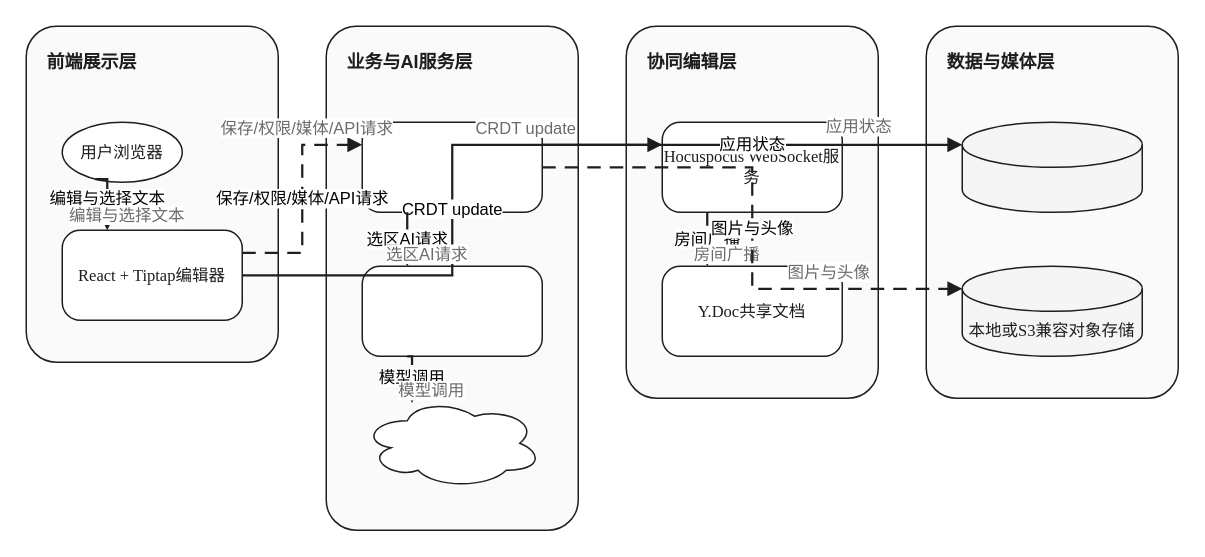
The diagram is 1205 pixels wide and 557 high, and some of its shapes have lost their labels. The shapes that lost their labels are listed below. From the top down, each one's centre as x and y in pixels, then its label:
point (451, 166): Next.js API路由
point (1051, 166): PostgreSQL / JSON状态存储
point (451, 310): AI服务端代理
point (451, 442): OpenAI兼容大模型接口
